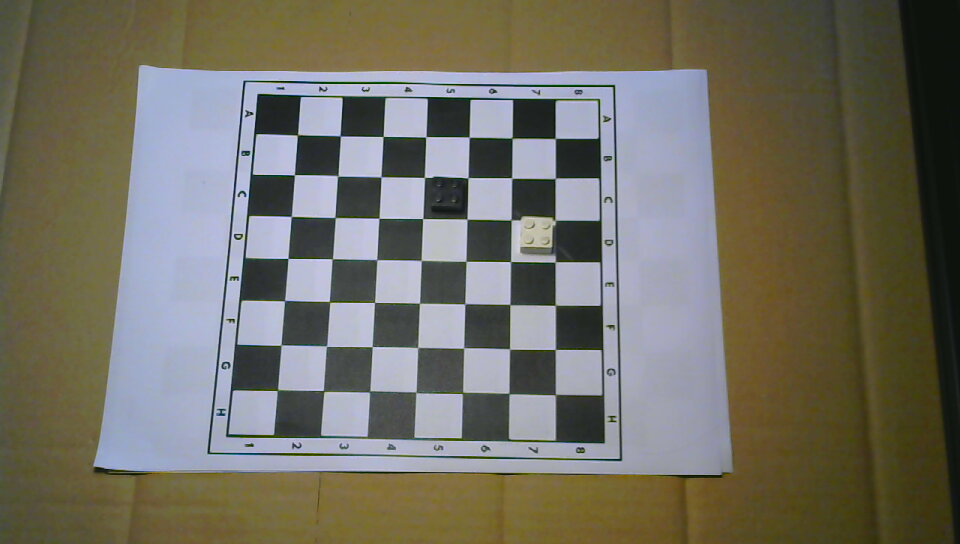bp: (428, 175, 464, 215)
wp: (518, 215, 554, 255)
